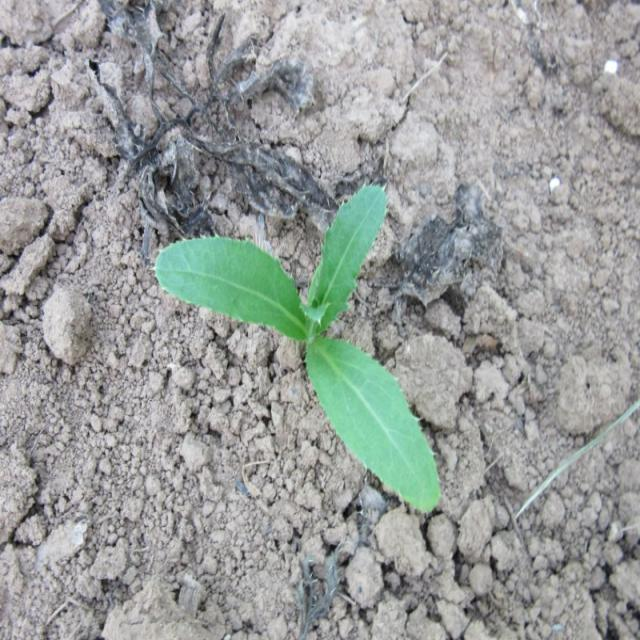cs: (154, 180, 442, 516)
